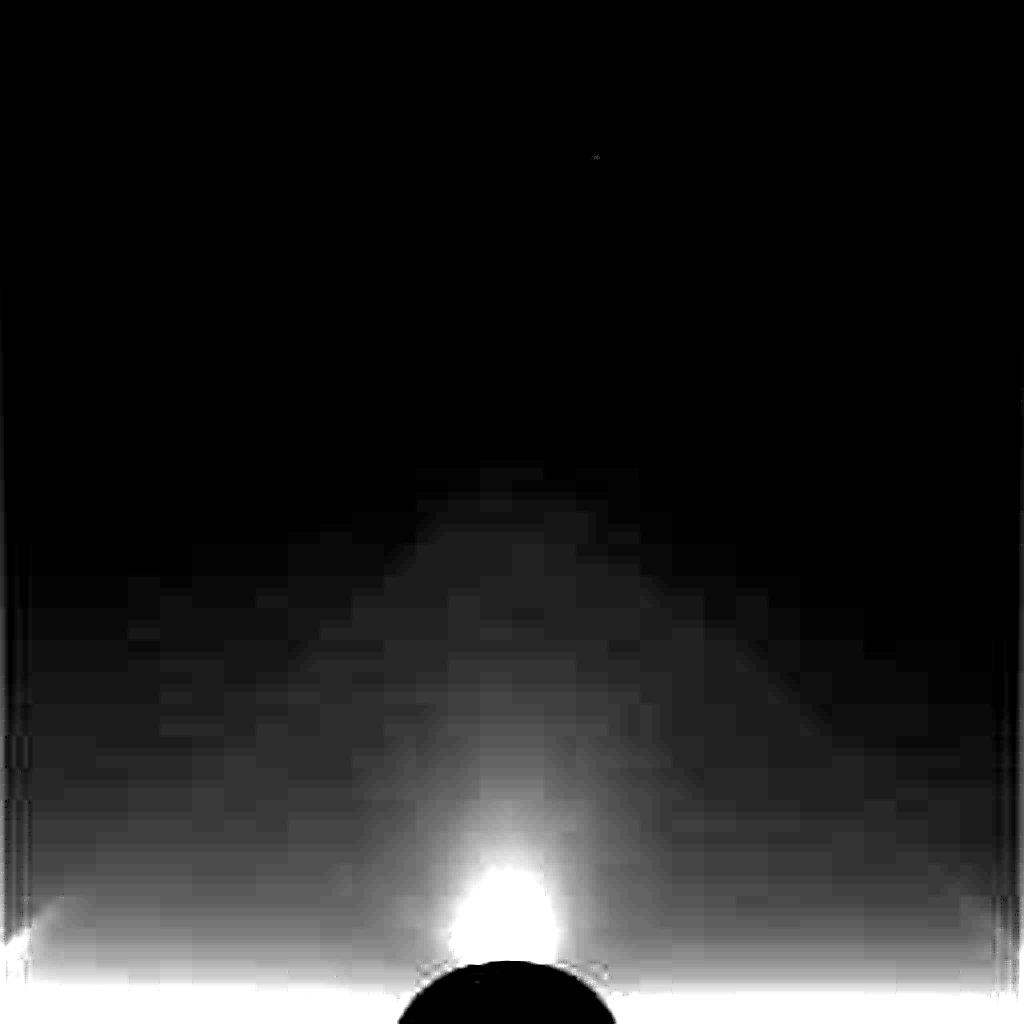plumes: (458, 866, 556, 967)
